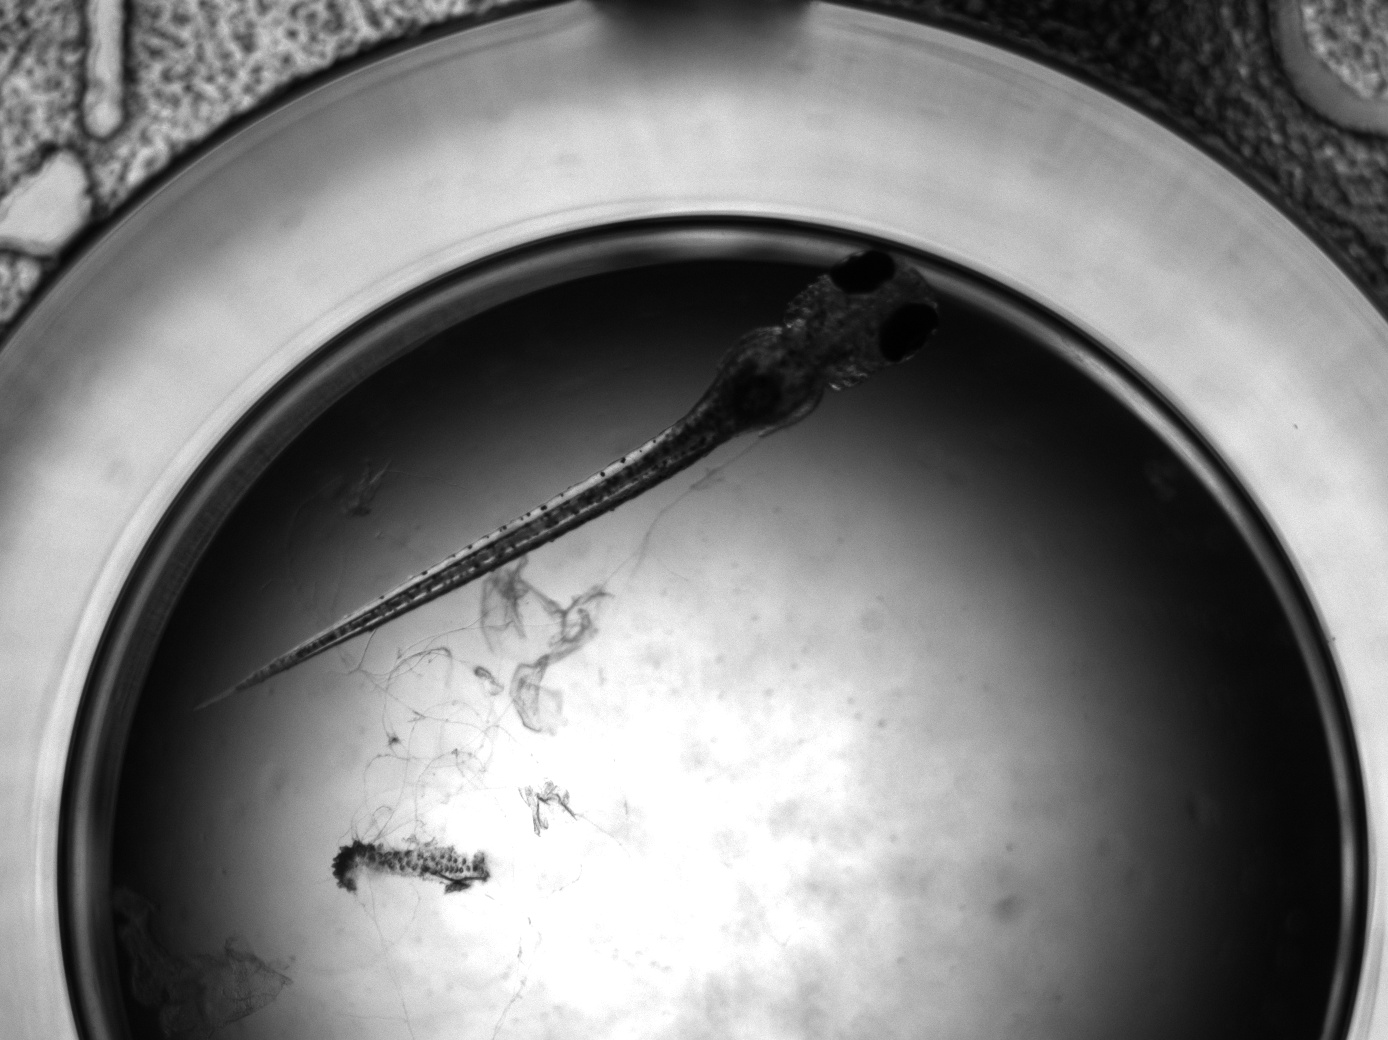debris: (380, 560, 617, 764), (115, 877, 297, 1040), (331, 839, 493, 896)
embryo: (192, 247, 942, 714)
eye: (876, 303, 939, 363), (827, 248, 897, 294)
yolksac: (695, 326, 828, 439)
